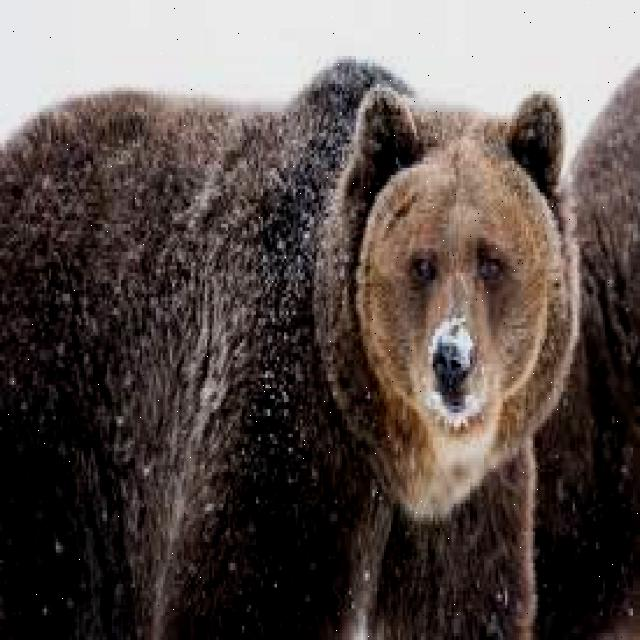bear: (6, 67, 578, 640)
